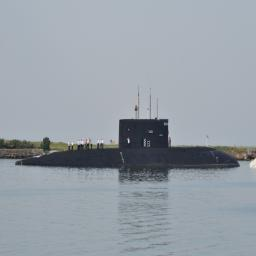submarine: (13, 116, 242, 168)
